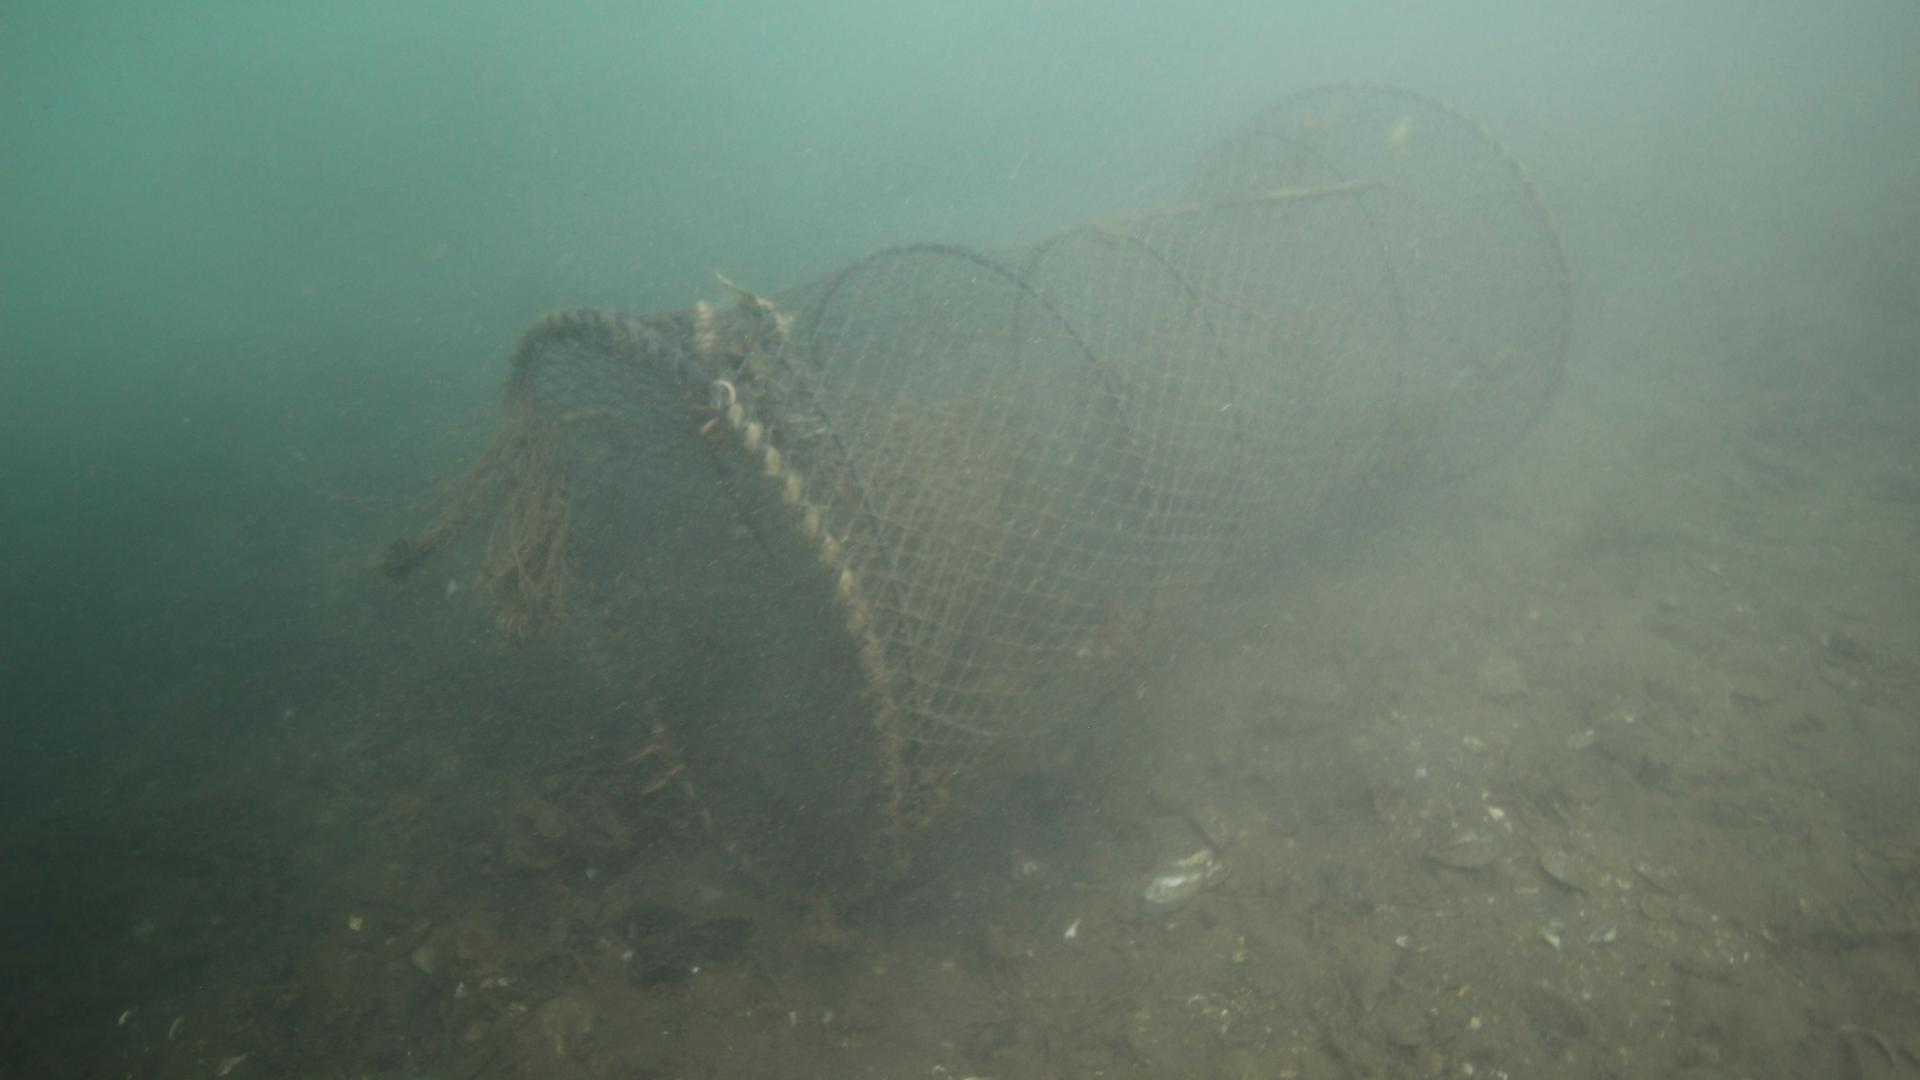spring fish trap: (505, 78, 1572, 910)
